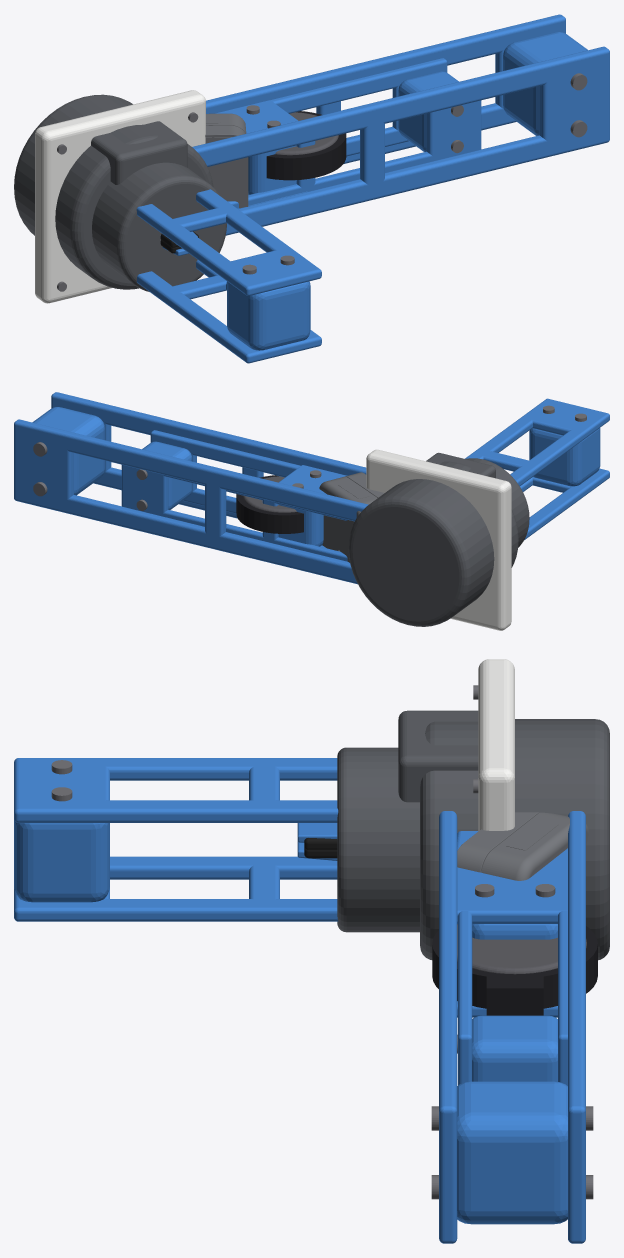
Rendered from arm.glb.
3 views of the same model, one above another, from view 1: azimuth 30°, elevation 25°; view 2: azimuth 150°, elevation 25°; view 3: azimuth 270°, elevation 25° (orthographic). The views are drawn at different scales.
Visible parts, largest first — view 1: b4, b1, b2, b3, b5, b7; view 2: b4, b3, b2, b1, b5, b7; view 3: b2, b4, b3, b1, b5, b7, b8.
Part boxes in pixels (left/top/right/bottom): b4: left=192, top=14, right=609, bottom=235; b1: left=35, top=90, right=226, bottom=303; b2: left=91, top=121, right=321, bottom=363; b3: left=14, top=58, right=481, bottom=289; b5: left=215, top=100, right=346, bottom=208; b7: left=205, top=113, right=248, bottom=208; b4: left=14, top=392, right=368, bottom=584; b3: left=121, top=430, right=518, bottom=626; b2: left=426, top=398, right=609, bottom=540; b1: left=366, top=449, right=529, bottom=630; b5: left=236, top=465, right=347, bottom=548; b7: left=319, top=472, right=384, bottom=562; b2: left=14, top=710, right=478, bottom=921; b4: left=431, top=811, right=593, bottom=1243; b3: left=420, top=719, right=609, bottom=1085; b1: left=337, top=659, right=514, bottom=932; b5: left=432, top=831, right=597, bottom=1017; b7: left=457, top=812, right=588, bottom=880; b8: left=297, top=823, right=337, bottom=849.
Bounding box in the file's own units: 0.2632 × 0.078 × 0.1676.
